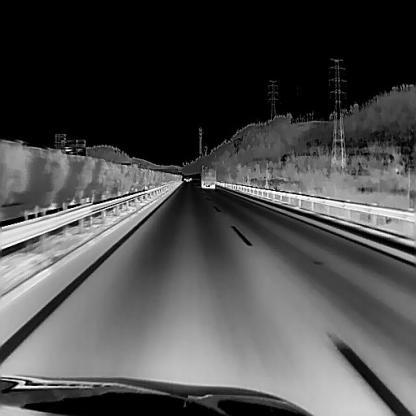car: (200, 163, 216, 188)
